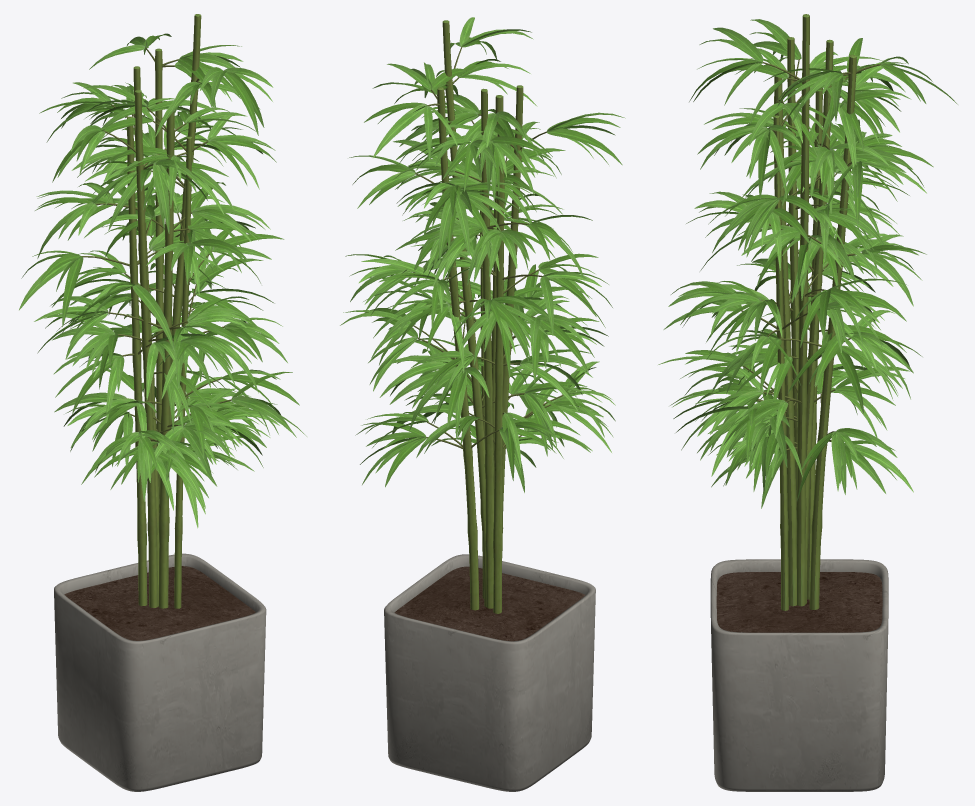
Rendered from bambu_180.glb.
3 renders of one model, left to right at view 1: azimuth 30°, elevation 25°; view 2: azimuth 150°, elevation 25°; view 3: azimuth 270°, elevation 25°, orthographic. The views are drawn at different scales.
Parts seen in each view (by area): view 1: bambu_180; view 2: bambu_180; view 3: bambu_180.
Boxes of the visible parts, left/top/right/bottom form: bambu_180: left=19, top=14, right=306, bottom=791; bambu_180: left=340, top=17, right=625, bottom=791; bambu_180: left=658, top=14, right=957, bottom=791.
Size of the model in its own units: 0.6999 by 1.8 by 0.65.
Materials: 3 (3 with a texture image).
